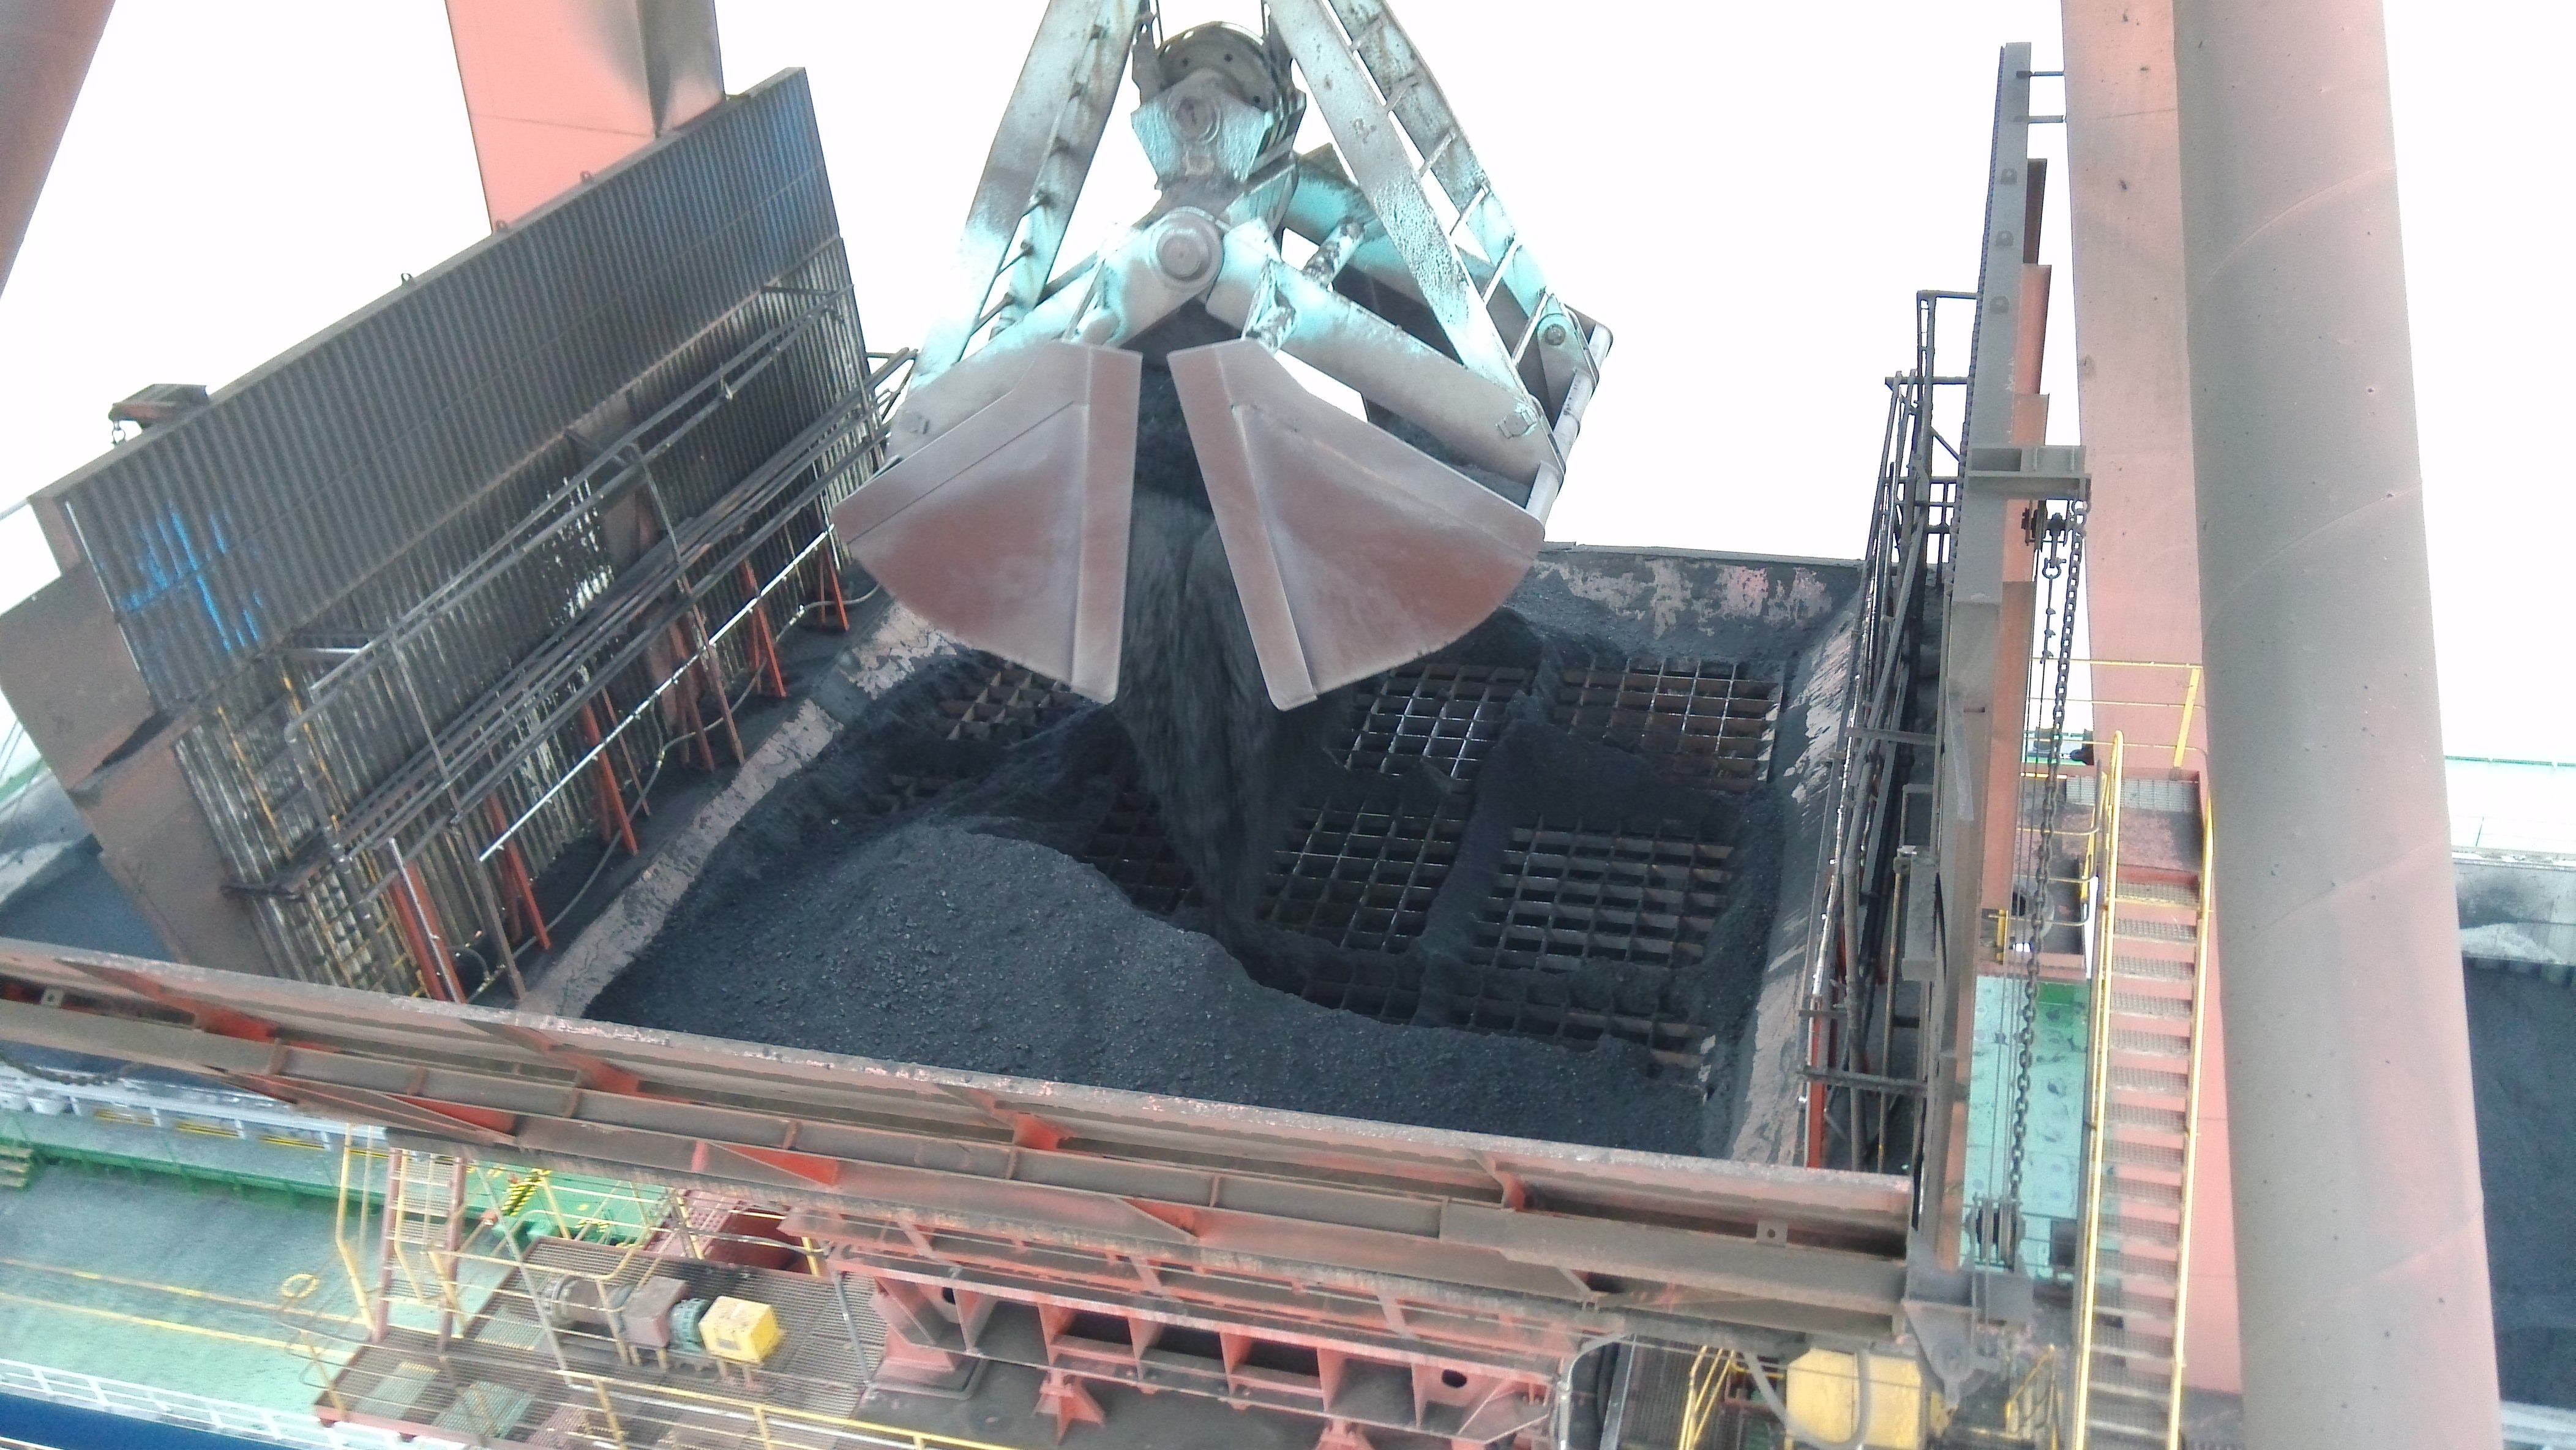grab: (824, 2, 1621, 721)
